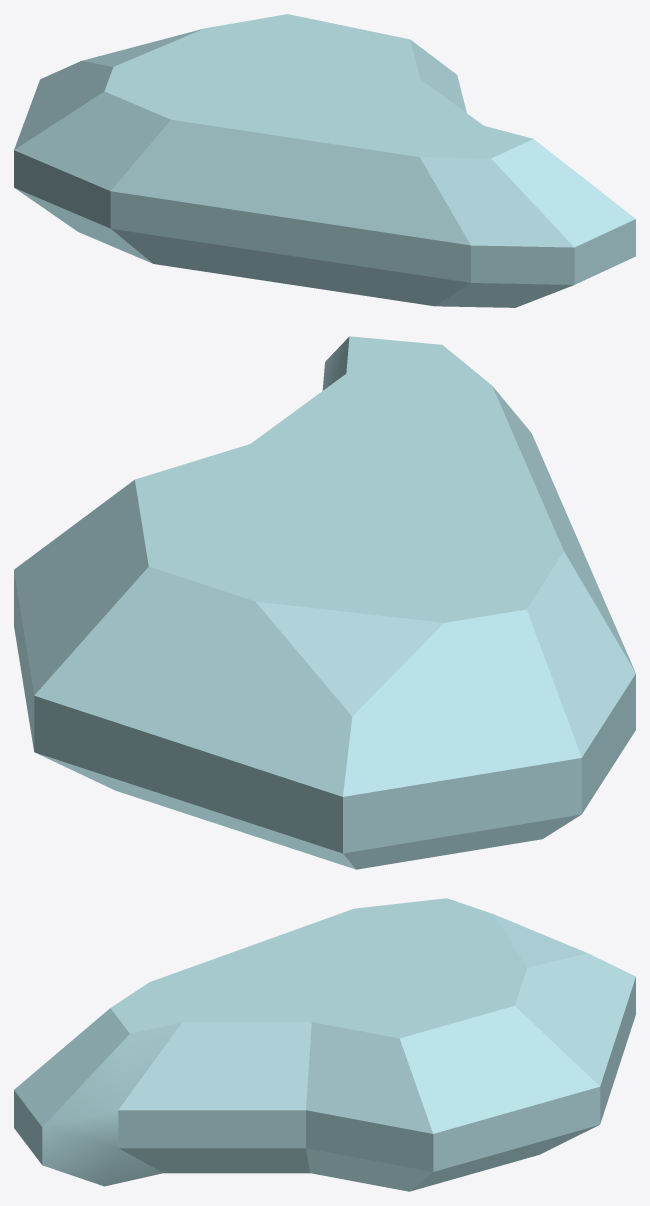
Rendered from d_kenney_roche_a.glb.
3 views of the same model, one above another, from view 1: azimuth 30°, elevation 25°; view 2: azimuth 150°, elevation 25°; view 3: azimuth 270°, elevation 25° (orthographic). The views are drawn at different scales.
Visible parts, largest first — view 1: d_kenney_roche_a; view 2: d_kenney_roche_a; view 3: d_kenney_roche_a.
Part boxes in pixels (x1,y1,x2,y2): d_kenney_roche_a: (14, 14, 635, 307); d_kenney_roche_a: (14, 336, 635, 869); d_kenney_roche_a: (14, 898, 635, 1191).
Size of the model in its own units: 0.7849 by 0.2597 by 1.02.
1 material, 1 textured.
